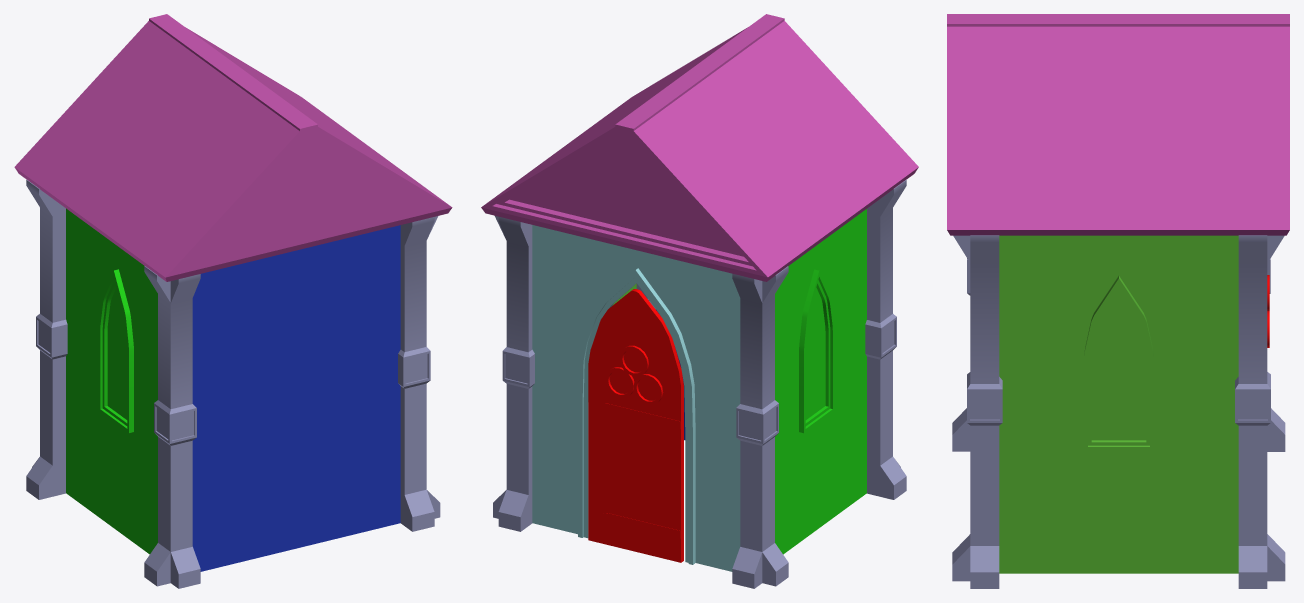
File: Crypte_low.FBX
3 views of the same model, side by side, from view 1: azimuth 30°, elevation 25°; view 2: azimuth 150°, elevation 25°; view 3: azimuth 270°, elevation 25° (orthographic). The views are drawn at different scales.
Parts seen in each view (by area): view 1: Box005, Plane003, Box004, Plane005; view 2: Box005, Plane004, Box004, Plane005, Box006; view 3: Plane002, Box005, Box004.
Boxes of the visible parts, x1,y1,x2,y2 form: Box005: (14,14,452,281); Plane003: (192,225,400,571); Box004: (26,179,440,588); Plane005: (66,208,157,554); Box005: (481,14,918,281); Plane004: (532,225,740,571); Box004: (493,180,906,588); Plane005: (775,209,866,554); Box006: (588,289,683,562); Plane002: (999,235,1238,573); Box005: (947,14,1289,235); Box004: (952,235,1285,588).
Size of the model in its own units: 98.73 by 142 by 89.93.
